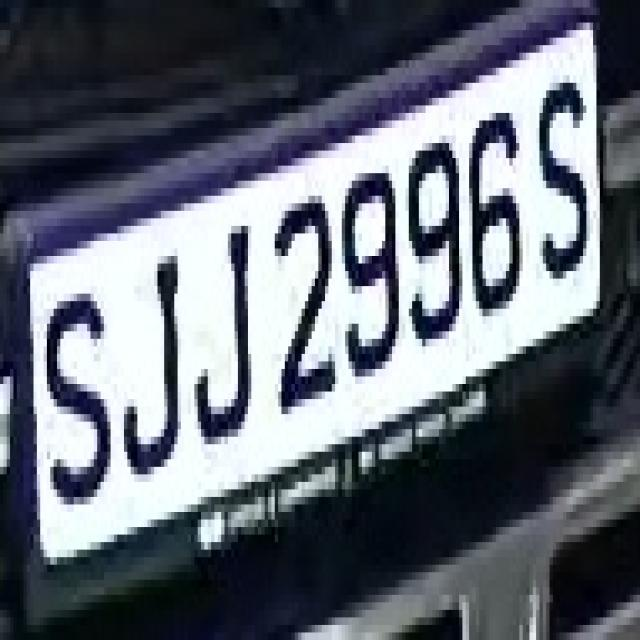2: (258, 203, 352, 429)
6: (463, 98, 536, 346)
9: (332, 151, 402, 399), (402, 113, 466, 354)
J: (188, 173, 272, 474), (121, 233, 194, 512)
S: (34, 278, 118, 534), (526, 52, 597, 308)
